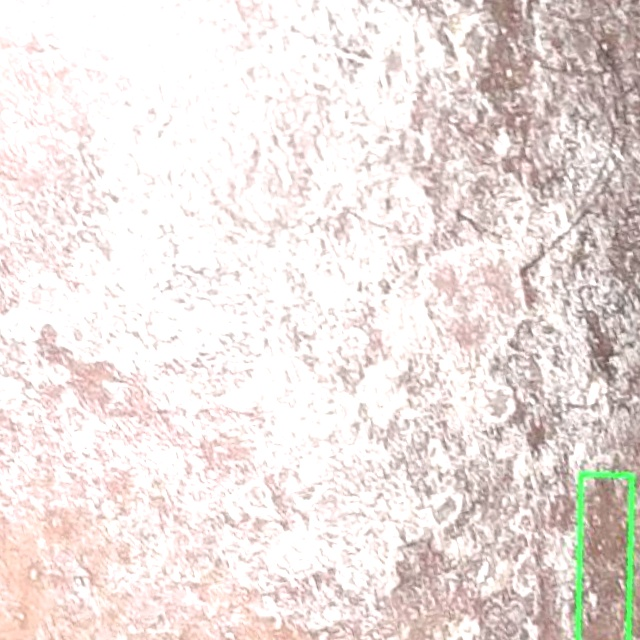Tinea Corporis: (578, 475, 631, 639)
